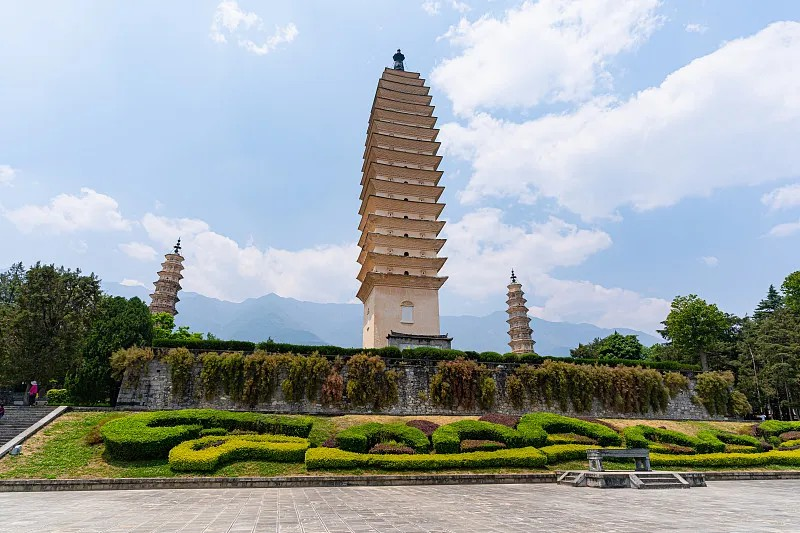ThreePagoda: (355, 48, 449, 348)
